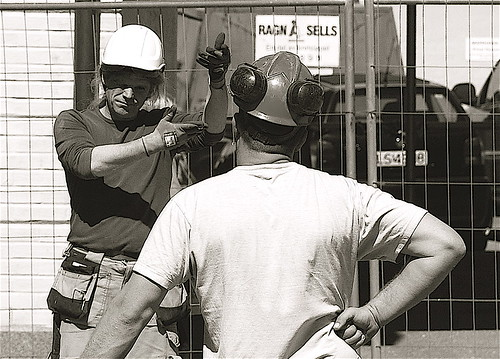person hardhat: (159, 50, 456, 359), (47, 26, 227, 359)
